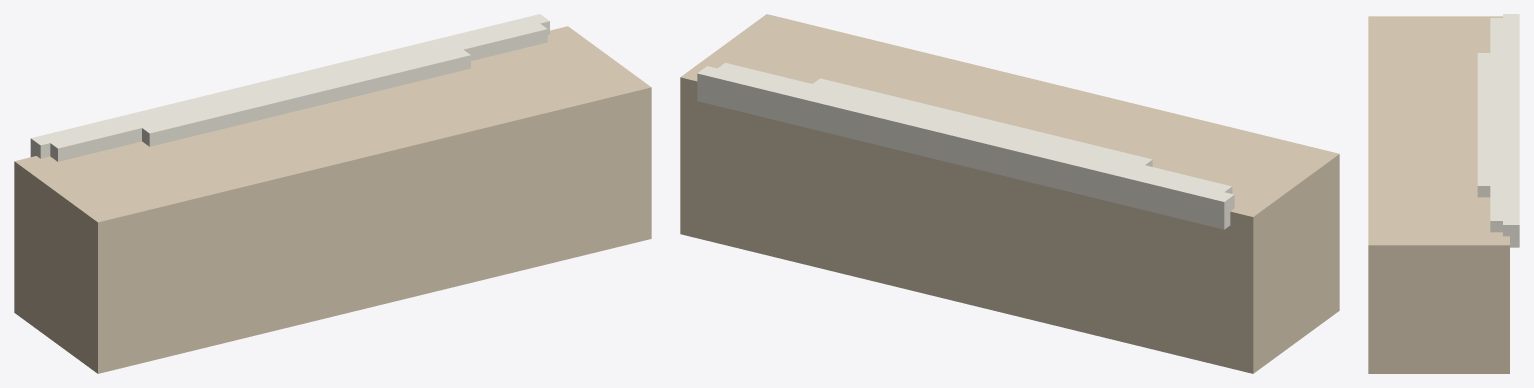
File: MOD_BAKERY_COUNTER_FRONTAGE_001_LOD_MAP.glb
The picture shows the model from 3 angles, left to right: view 1: azimuth 30°, elevation 25°; view 2: azimuth 150°, elevation 25°; view 3: azimuth 270°, elevation 25°; orthographic projection. The views are drawn at different scales.
Parts seen in each view (by area): view 1: MOD_BAKERY_COUNTER_FRONTAGE_001_GLASS_FRONT_PASTRY_COUNTER_M (×2), MOD_BAKERY_COUNTER_FRONTAGE_001_COMPACT_CORNER_SERVICE_COUN. (×2), MOD_BAKERY_COUNTER_FRONTAGE_001_TAKEAWAY_LED_COMPACT_COUNTER, MOD_BAKERY_COUNTER_FRONTAGE_001_TAKEAWAY_LED_COMPACT_COUNTE., MOD_BAKERY_COUNTER_FRONTAGE_001_STRAIGHT_BAKERY_COUNTER_MAP_ (×2); view 2: MOD_BAKERY_COUNTER_FRONTAGE_001_GLASS_FRONT_PASTRY_COUNTER_M (×2), MOD_BAKERY_COUNTER_FRONTAGE_001_STRAIGHT_BAKERY_COUNTER_MAP_ (×2), MOD_BAKERY_COUNTER_FRONTAGE_001_TAKEAWAY_LED_COMPACT_COUNTER, MOD_BAKERY_COUNTER_FRONTAGE_001_COMPACT_CORNER_SERVICE_COUN. (×2), MOD_BAKERY_COUNTER_FRONTAGE_001_TAKEAWAY_LED_COMPACT_COUNTE.; view 3: MOD_BAKERY_COUNTER_FRONTAGE_001_GLASS_FRONT_PASTRY_COUNTER_M (×2), MOD_BAKERY_COUNTER_FRONTAGE_001_COMPACT_CORNER_SERVICE_COUN. (×2), MOD_BAKERY_COUNTER_FRONTAGE_001_STRAIGHT_BAKERY_COUNTER_MAP_ (×2), MOD_BAKERY_COUNTER_FRONTAGE_001_TAKEAWAY_LED_COMPACT_COUNTER, MOD_BAKERY_COUNTER_FRONTAGE_001_TAKEAWAY_LED_COMPACT_COUNTE..
Boxes of the visible parts, <box> form: MOD_BAKERY_COUNTER_FRONTAGE_001_GLASS_FRONT_PASTRY_COUNTER_M (×2): <box>14,14,651,373</box>; MOD_BAKERY_COUNTER_FRONTAGE_001_COMPACT_CORNER_SERVICE_COUN. (×2): <box>102,35,571,200</box>; MOD_BAKERY_COUNTER_FRONTAGE_001_TAKEAWAY_LED_COMPACT_COUNTER: <box>131,62,530,186</box>; MOD_BAKERY_COUNTER_FRONTAGE_001_TAKEAWAY_LED_COMPACT_COUNTE.: <box>141,48,470,146</box>; MOD_BAKERY_COUNTER_FRONTAGE_001_STRAIGHT_BAKERY_COUNTER_MAP_ (×2): <box>33,23,599,211</box>; MOD_BAKERY_COUNTER_FRONTAGE_001_GLASS_FRONT_PASTRY_COUNTER_M (×2): <box>680,14,1339,373</box>; MOD_BAKERY_COUNTER_FRONTAGE_001_STRAIGHT_BAKERY_COUNTER_MAP_ (×2): <box>710,22,1320,208</box>; MOD_BAKERY_COUNTER_FRONTAGE_001_TAKEAWAY_LED_COMPACT_COUNTER: <box>820,51,1218,171</box>; MOD_BAKERY_COUNTER_FRONTAGE_001_COMPACT_CORNER_SERVICE_COUN. (×2): <box>774,36,1256,180</box>; MOD_BAKERY_COUNTER_FRONTAGE_001_TAKEAWAY_LED_COMPACT_COUNTE.: <box>810,78,1152,166</box>; MOD_BAKERY_COUNTER_FRONTAGE_001_GLASS_FRONT_PASTRY_COUNTER_M (×2): <box>1368,14,1519,373</box>; MOD_BAKERY_COUNTER_FRONTAGE_001_COMPACT_CORNER_SERVICE_COUN. (×2): <box>1376,42,1511,214</box>; MOD_BAKERY_COUNTER_FRONTAGE_001_STRAIGHT_BAKERY_COUNTER_MAP_ (×2): <box>1380,18,1506,240</box>; MOD_BAKERY_COUNTER_FRONTAGE_001_TAKEAWAY_LED_COMPACT_COUNTER: <box>1393,58,1483,202</box>; MOD_BAKERY_COUNTER_FRONTAGE_001_TAKEAWAY_LED_COMPACT_COUNTE.: <box>1477,53,1494,197</box>.
Bounding box in the file's own units: 2.6 × 0.74 × 0.7268.
